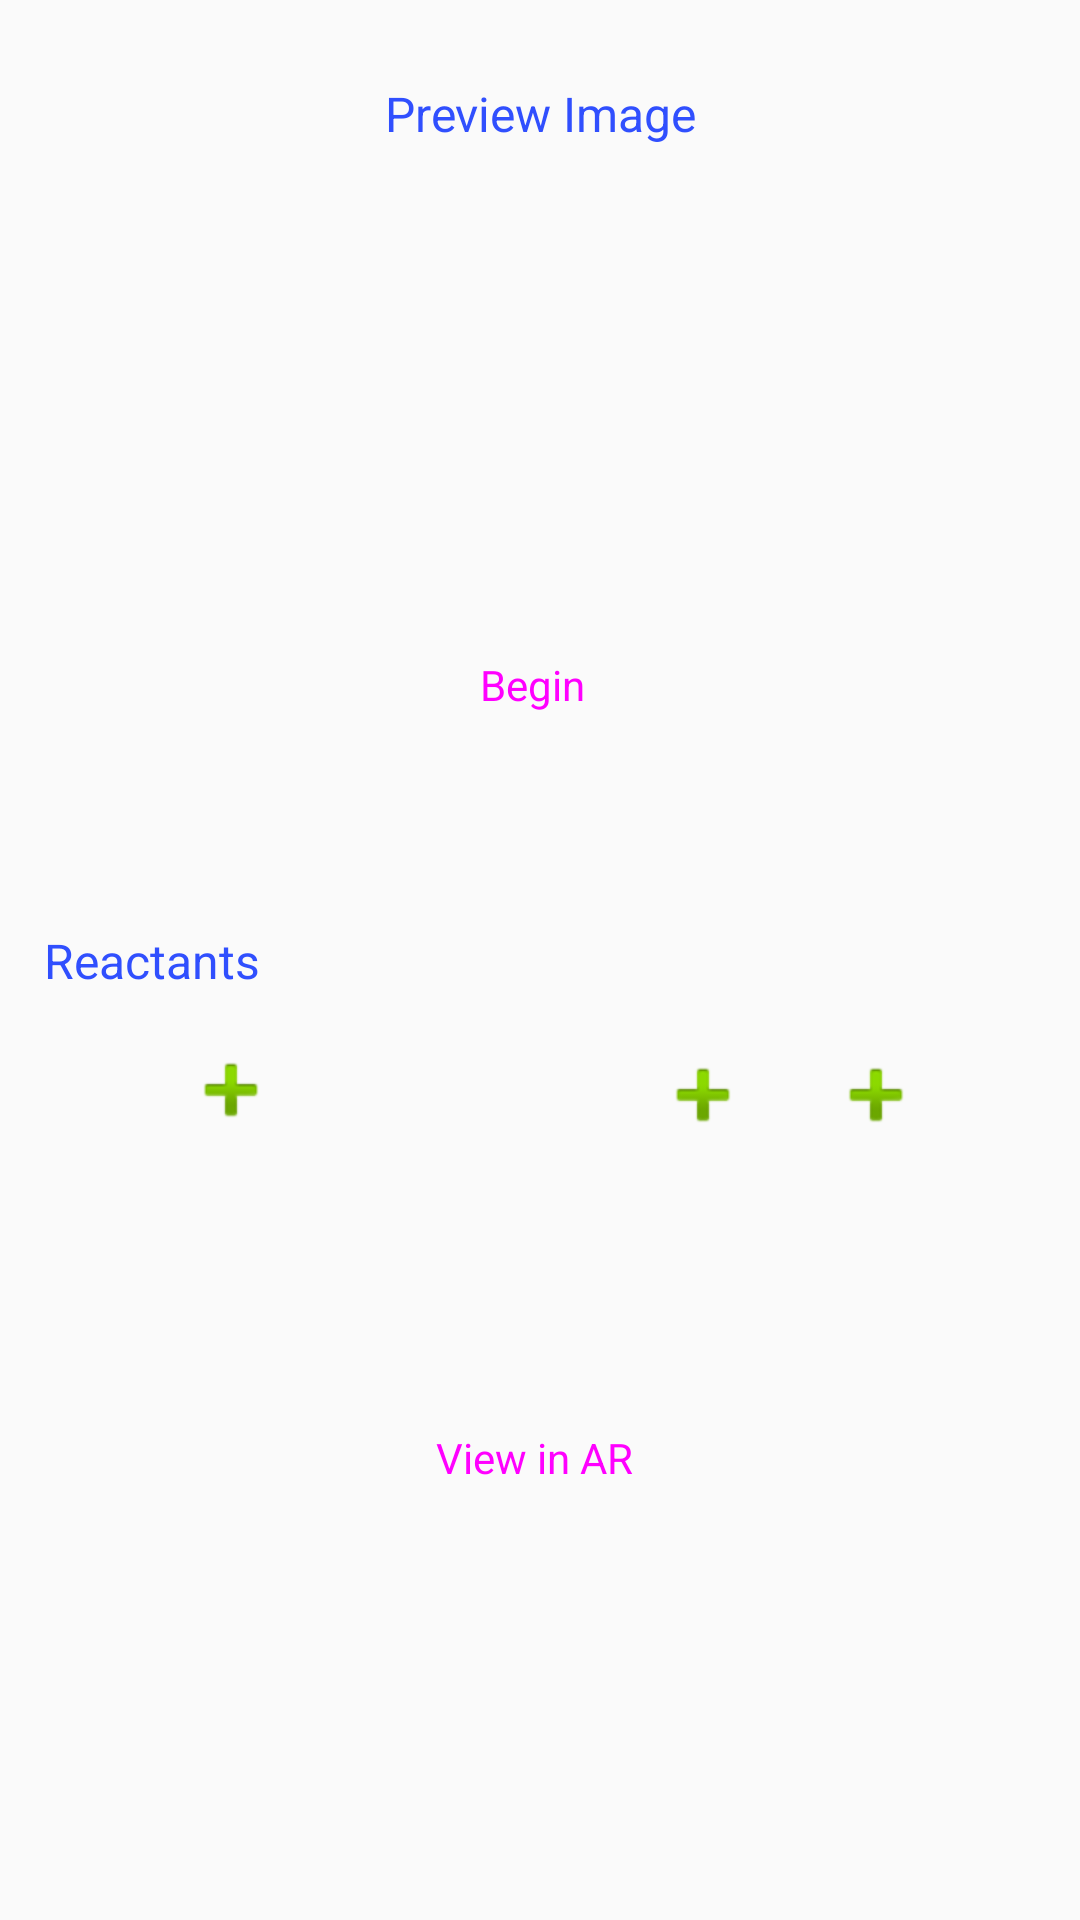

Where to tap for icons on this 1080×1920 app screen, as [x,y]:
add: [231,1090], [703,1095], [876,1095]
